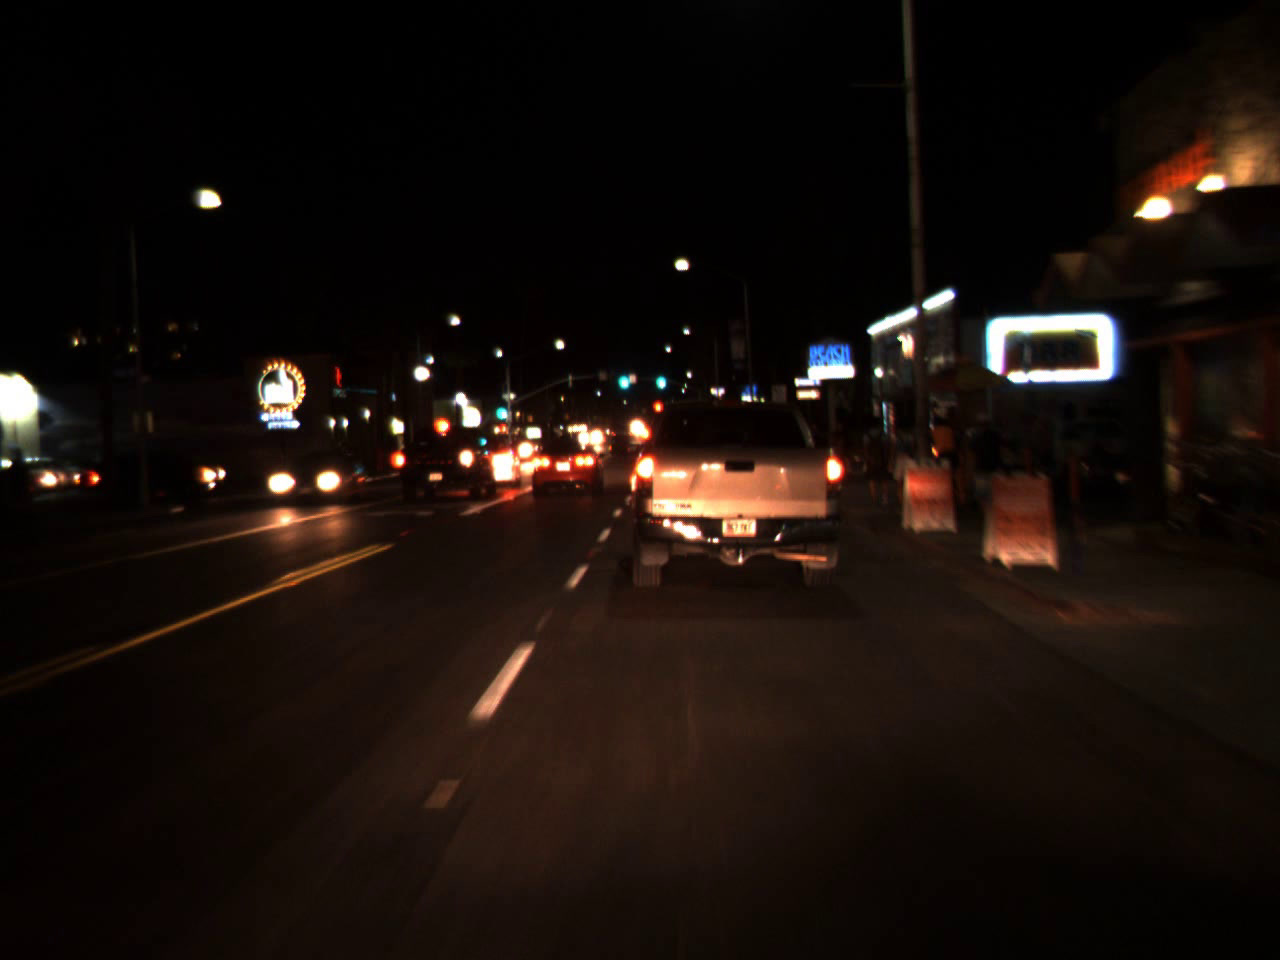go: (613, 360, 632, 393), (493, 391, 507, 424), (653, 364, 667, 391)
